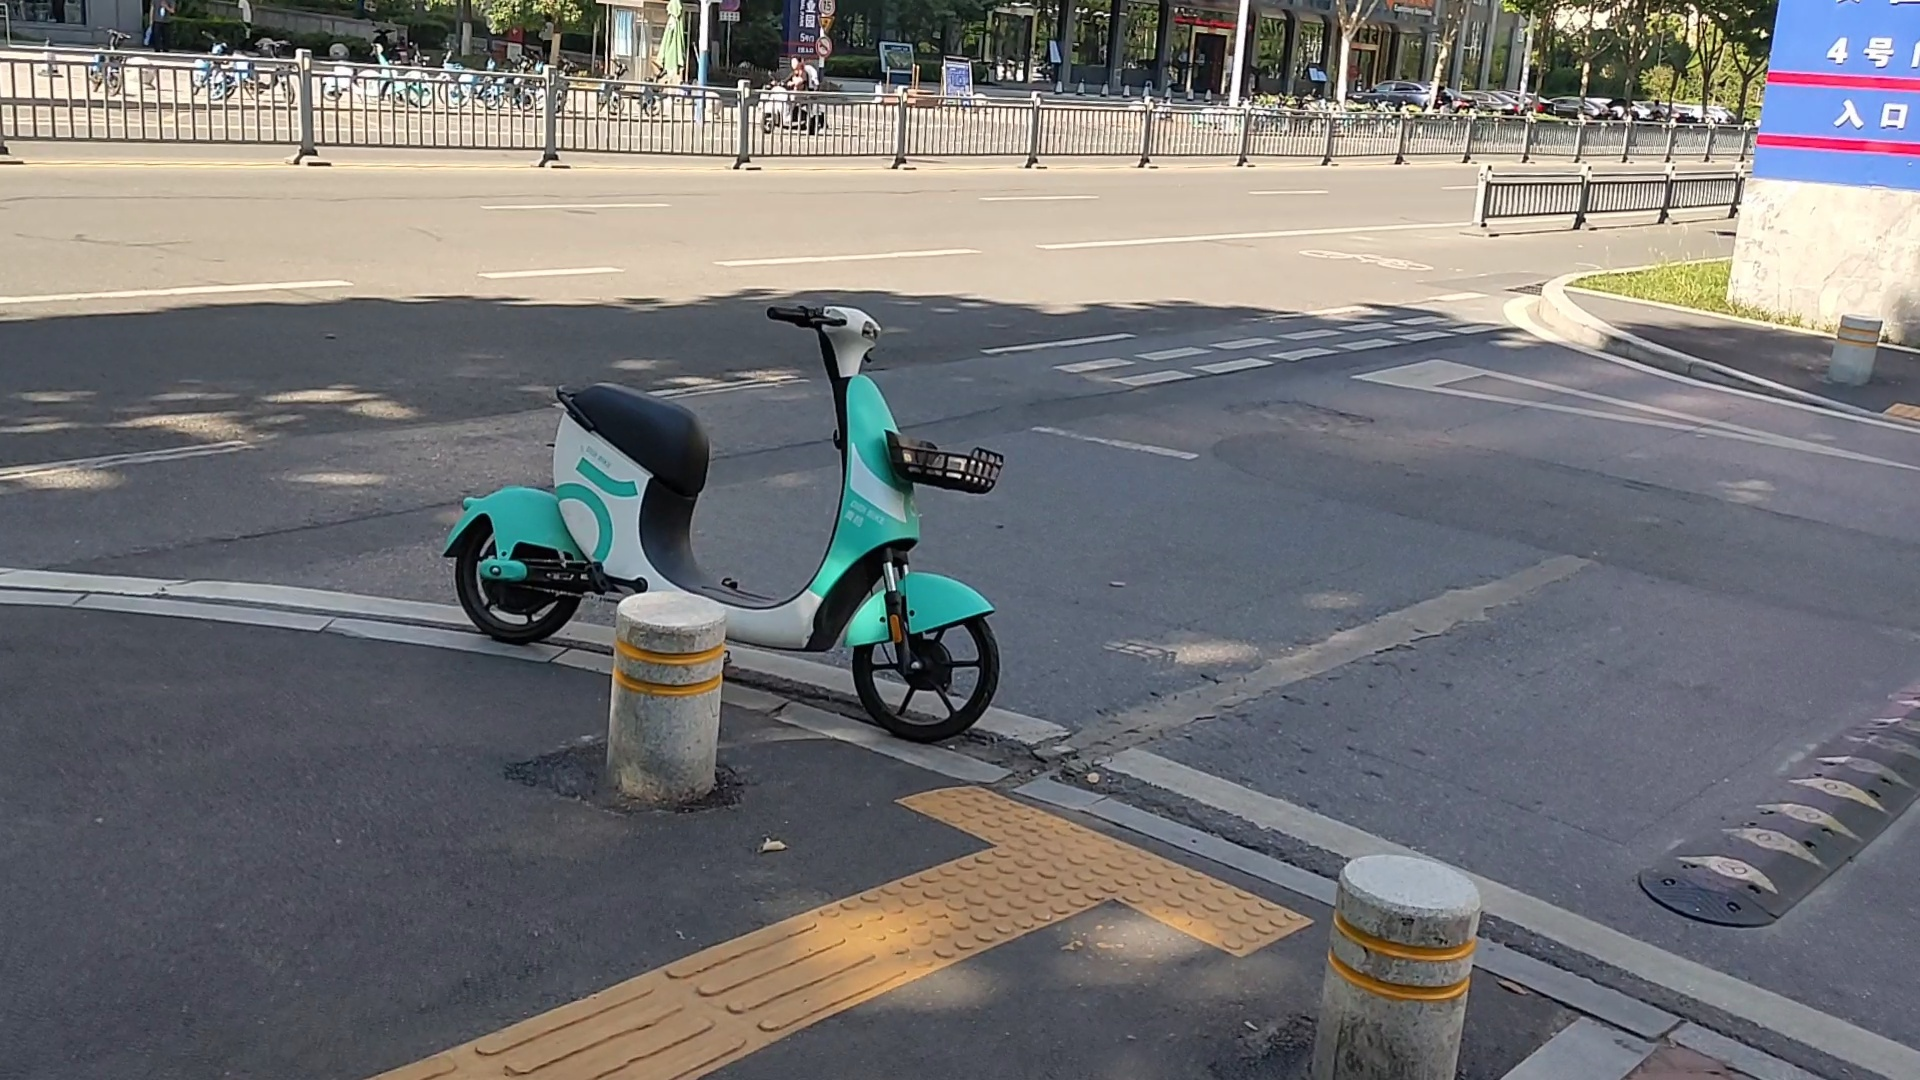non-vehicle: (439, 299, 1015, 742), (190, 55, 241, 100)
